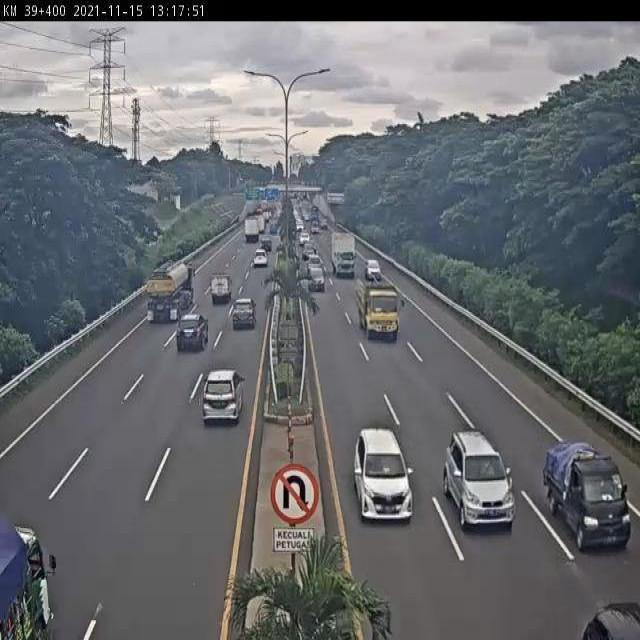car: (441, 428, 516, 531), (354, 428, 415, 521), (200, 370, 243, 426), (174, 313, 208, 355), (229, 298, 257, 334), (306, 266, 327, 294), (365, 258, 383, 282), (252, 255, 266, 272)
truck: (543, 441, 635, 551), (143, 257, 197, 327), (355, 276, 403, 341), (331, 228, 357, 279), (209, 270, 233, 306)
